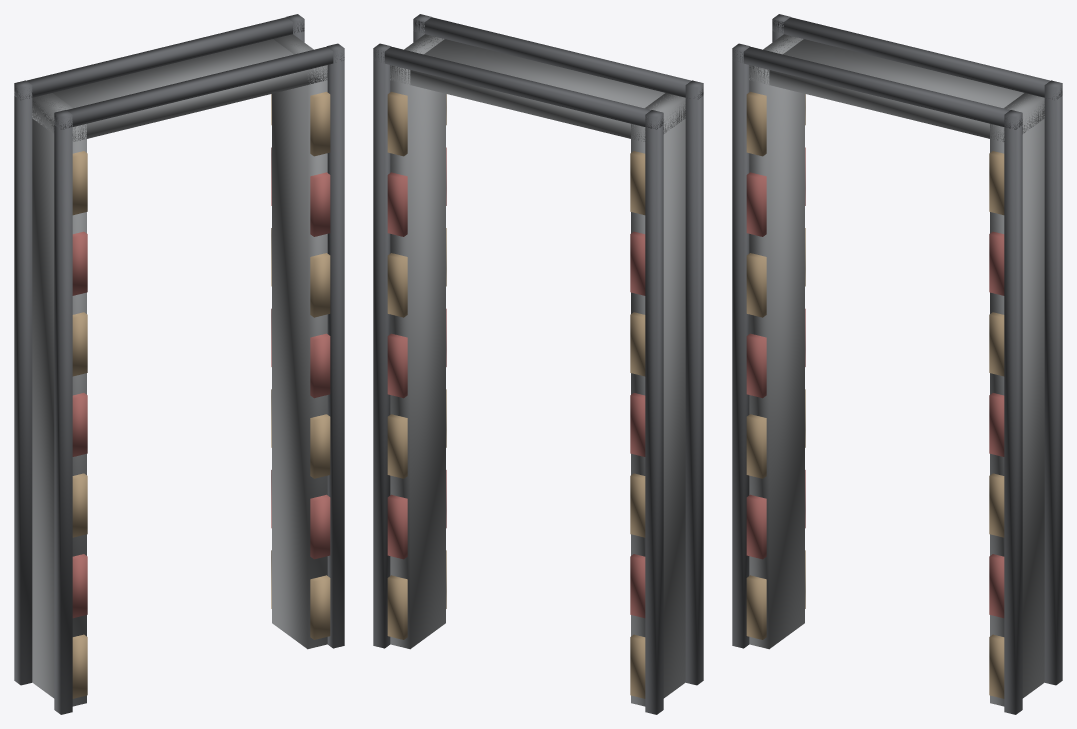
File: doorway_brick_return_w86_h210_d24.glb
The picture shows the model from 3 angles, left to right: view 1: azimuth 30°, elevation 25°; view 2: azimuth 150°, elevation 25°; view 3: azimuth 330°, elevation 25°; orthographic projection.
Visible parts, largest first — view 1: world; view 2: world; view 3: world.
Part boxes in pixels (bbox=[...]): world: bbox=[14, 14, 344, 714]; world: bbox=[373, 14, 703, 714]; world: bbox=[732, 14, 1062, 714].
Bounding box in the file's own units: 1.1 × 2.22 × 0.3165.
